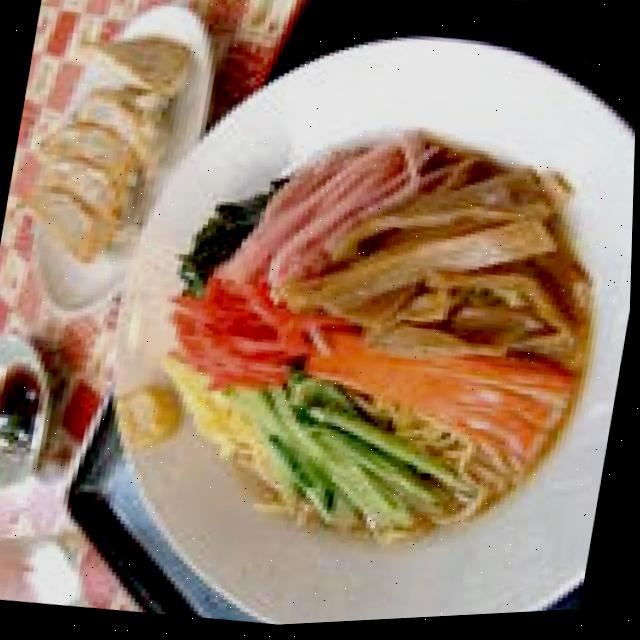面条主食: (62, 0, 640, 637)
